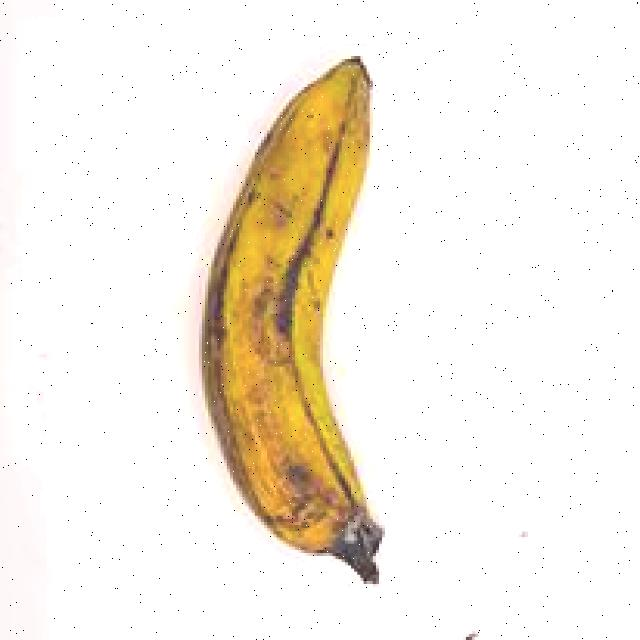Overripe: (153, 20, 484, 623)
